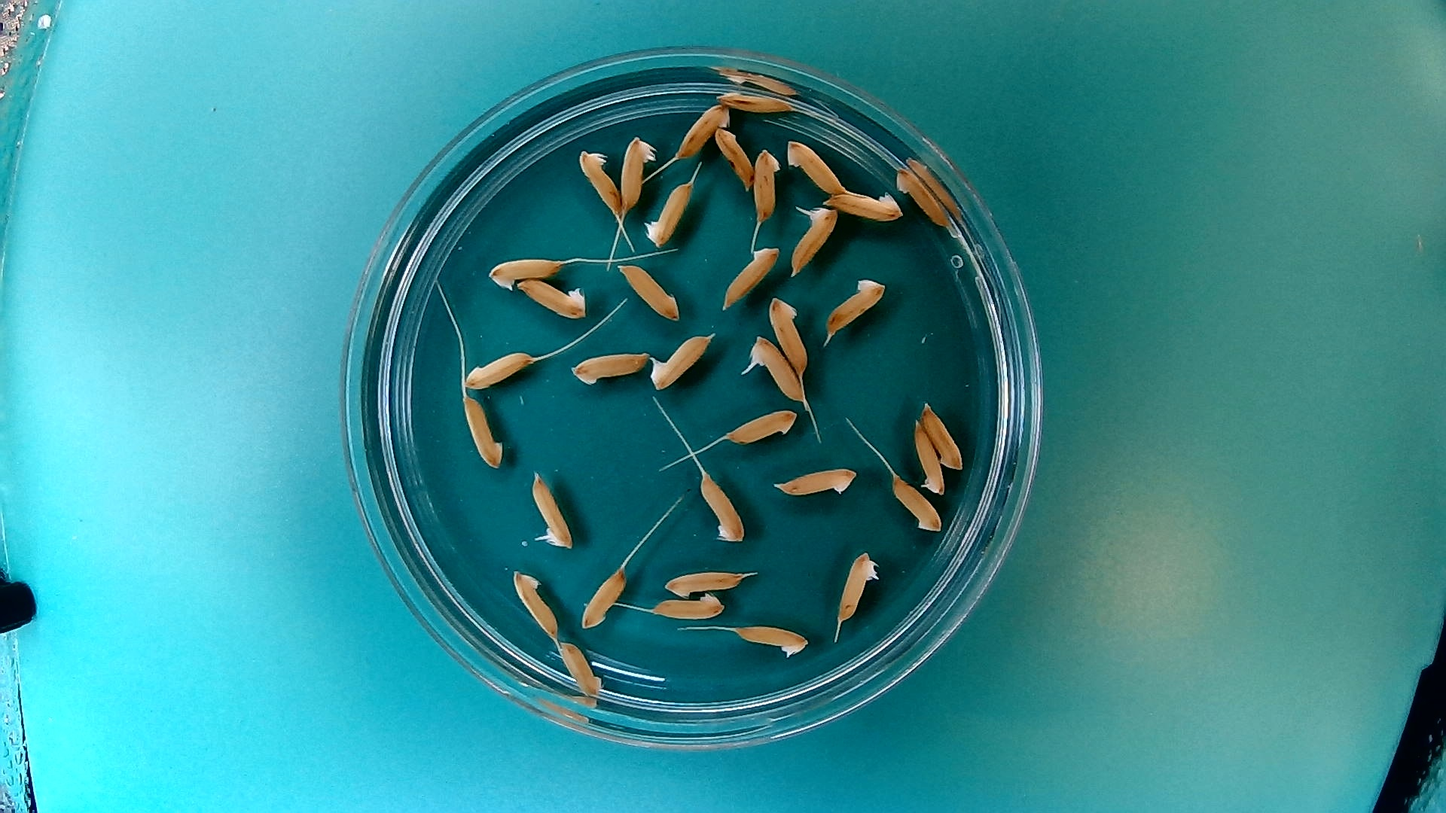no: (821, 274, 889, 341), (721, 241, 780, 312), (768, 293, 813, 379), (617, 260, 680, 321), (511, 567, 561, 643), (697, 471, 748, 544), (895, 164, 953, 228), (459, 389, 504, 471), (576, 145, 625, 218), (786, 139, 848, 196), (918, 398, 967, 467), (569, 347, 651, 388), (485, 249, 569, 289), (512, 278, 590, 321), (461, 346, 535, 391), (676, 101, 732, 160), (888, 472, 942, 533), (725, 406, 800, 448), (579, 565, 627, 630), (773, 463, 859, 499), (729, 620, 810, 658), (824, 188, 905, 224), (713, 123, 756, 190), (558, 638, 606, 696), (660, 568, 745, 598), (752, 143, 782, 220), (649, 590, 725, 620), (715, 89, 796, 114)
yes: (741, 333, 807, 402), (647, 329, 715, 392), (786, 201, 840, 279), (642, 173, 695, 251), (529, 469, 575, 553), (834, 547, 879, 626), (619, 131, 657, 212), (912, 423, 945, 498)
